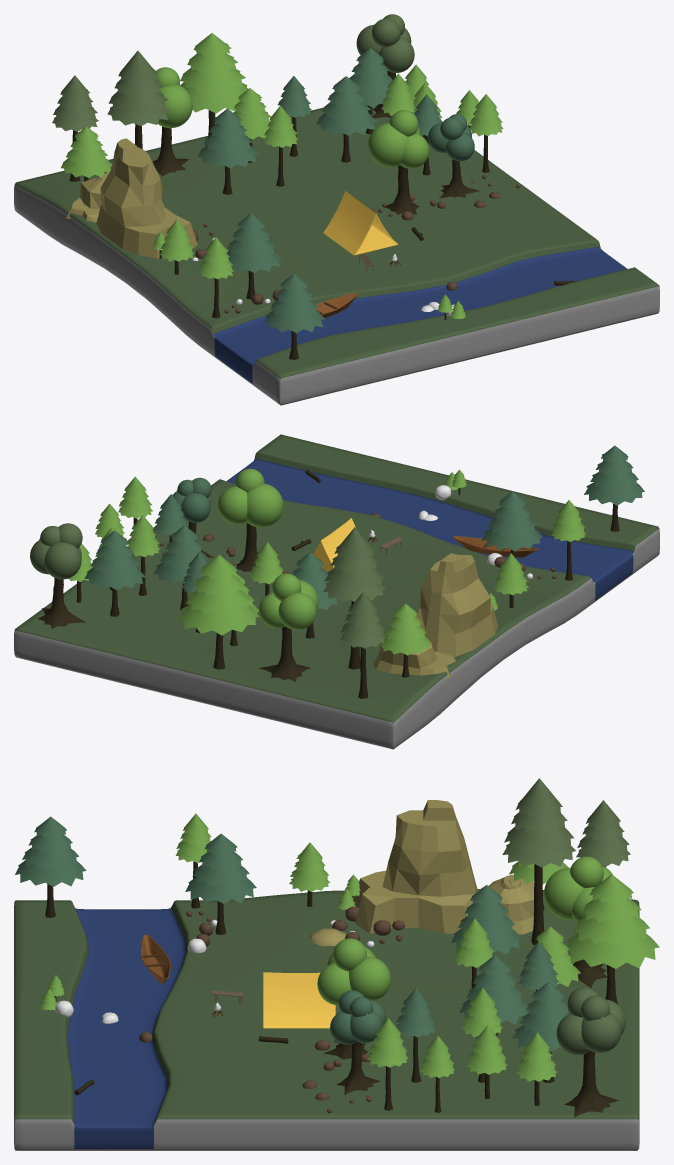
The model's file is Landscap.fbx.
3 renders of one model, top to bottom at view 1: azimuth 30°, elevation 25°; view 2: azimuth 150°, elevation 25°; view 3: azimuth 270°, elevation 25°, orthographic. The views are drawn at different scales.
Visible parts, largest first — view 1: Box001, Box002, Prism001, Sphere001, Cone114, Cone115, Sphere018, Box003, Cone054, Sphere014, Cone096, Cone067 (+19 smaller); view 2: Box001, Box002, Box003, Cone115, Sphere001, Sphere016, Cone114, Sphere012, Cylinder031, Cone054, Sphere002, Cylinder020 (+22 smaller); view 3: Box001, Box002, Prism001, Cone115, Box003, Cone114, Sphere018, Sphere002, Cone054, Cylinder020, Sphere013, Cone087 (+32 smaller).
Part boxes in pixels (bbox=[...]): Box001: bbox=[14, 105, 659, 405]; Box002: bbox=[96, 138, 197, 258]; Prism001: bbox=[323, 191, 398, 255]; Sphere001: bbox=[368, 122, 407, 167]; Cone114: bbox=[180, 68, 245, 93]; Cone115: bbox=[180, 82, 247, 113]; Sphere018: bbox=[157, 85, 192, 128]; Box003: bbox=[66, 172, 108, 222]; Cone054: bbox=[108, 91, 168, 114]; Sphere014: bbox=[379, 37, 414, 72]; Cone096: bbox=[264, 310, 325, 333]; Cone067: bbox=[316, 112, 377, 135]; Box001: bbox=[14, 434, 659, 749]; Box002: bbox=[415, 553, 497, 656]; Box003: bbox=[373, 643, 455, 678]; Cone115: bbox=[177, 604, 259, 635]; Sphere001: bbox=[246, 483, 283, 527]; Sphere016: bbox=[278, 592, 316, 630]; Cone114: bbox=[185, 590, 251, 615]; Sphere012: bbox=[44, 542, 81, 579]; Cylinder031: bbox=[259, 626, 310, 681]; Cone054: bbox=[324, 568, 383, 591]; Sphere002: bbox=[218, 486, 247, 524]; Cylinder020: bbox=[37, 578, 85, 629]; Box001: bbox=[14, 889, 639, 1150]; Box002: bbox=[354, 800, 477, 933]; Prism001: bbox=[263, 972, 335, 1028]; Cone115: bbox=[567, 932, 659, 968]; Box003: bbox=[478, 874, 534, 934]; Cone114: bbox=[573, 916, 649, 945]; Sphere018: bbox=[544, 867, 583, 919]; Sphere002: bbox=[349, 957, 390, 1000]; Cone054: bbox=[504, 826, 574, 853]; Cylinder020: bbox=[564, 1051, 618, 1117]; Sphere013: bbox=[581, 1013, 621, 1052]; Cone087: bbox=[185, 877, 256, 903].
Size of the model in its own units: 82.23 by 35.18 by 102.
